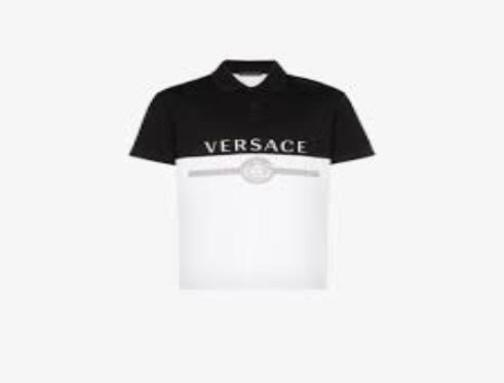VERSACE: (205, 127, 307, 157)
